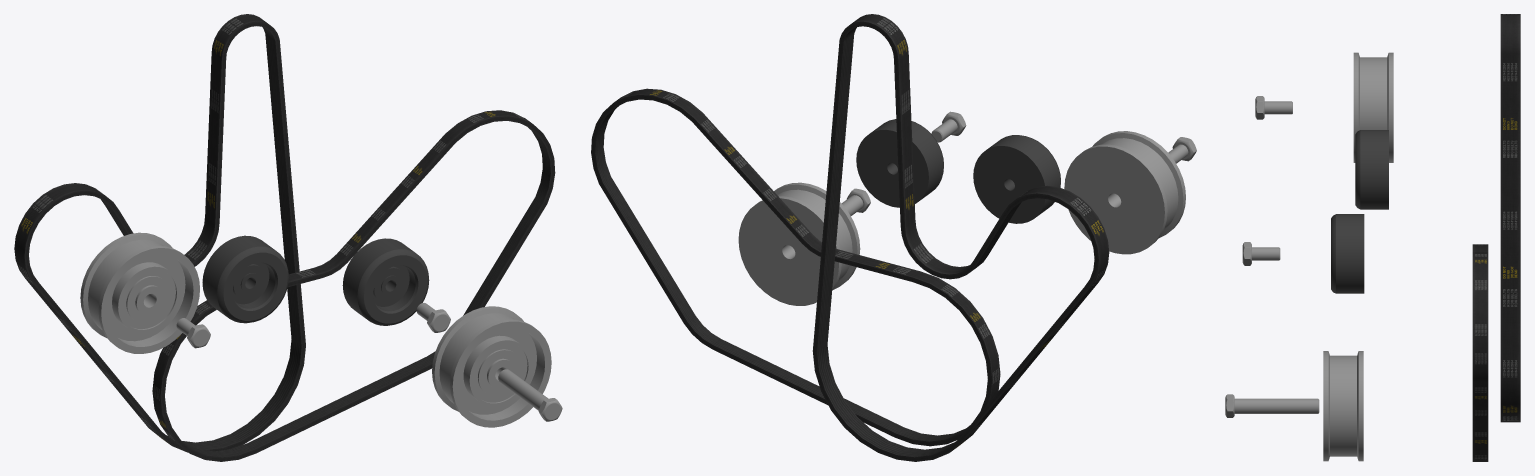
Rendered from tensBelt.glb.
3 views of the same model, side by side, from view 1: azimuth 30°, elevation 25°; view 2: azimuth 150°, elevation 25°; view 3: azimuth 270°, elevation 25° (orthographic). The views are drawn at different scales.
Parts seen in each view (by area): view 1: rot_new_pasek_1(0), rot_old_pasek_1(0), rolka_prowadzaca(1), rolka_prowadzaca(0), rolka_gladka(0), rolka_gladka(1), srubaSilnikDluga_0, srubaSilnik_0 (1), srubaSilnik_0; view 2: rot_new_pasek_1(0), rot_old_pasek_1(0), rolka_prowadzaca(1), rolka_prowadzaca(0), rolka_gladka(0), rolka_gladka(1), srubaSilnik_0; view 3: rot_new_pasek_1(0), rolka_prowadzaca(0), rot_old_pasek_1(0), rolka_prowadzaca(1), rolka_gladka(1), rolka_gladka(0), srubaSilnikDluga_0, srubaSilnik_0, srubaSilnik_0 (1).
Boxes of the visible parts, x1,y1,x2,y2 form: rot_new_pasek_1(0): [14, 14, 305, 452]; rot_old_pasek_1(0): [152, 110, 555, 461]; rolka_prowadzaca(1): [80, 232, 199, 353]; rolka_prowadzaca(0): [432, 306, 551, 427]; rolka_gladka(0): [202, 235, 288, 323]; rolka_gladka(1): [342, 238, 429, 325]; srubaSilnikDluga_0: [498, 369, 562, 421]; srubaSilnik_0 (1): [176, 318, 210, 348]; srubaSilnik_0: [416, 303, 450, 332]; rot_new_pasek_1(0): [812, 14, 1109, 461]; rot_old_pasek_1(0): [591, 88, 1000, 446]; rolka_prowadzaca(1): [1064, 131, 1185, 254]; rolka_prowadzaca(0): [738, 182, 860, 305]; rolka_gladka(0): [973, 135, 1060, 223]; rolka_gladka(1): [856, 119, 943, 207]; srubaSilnik_0: [931, 111, 966, 142]; rot_new_pasek_1(0): [1500, 14, 1520, 422]; rolka_prowadzaca(0): [1323, 351, 1363, 461]; rot_old_pasek_1(0): [1472, 244, 1488, 461]; rolka_prowadzaca(1): [1353, 52, 1393, 162]; rolka_gladka(1): [1331, 214, 1364, 293]; rolka_gladka(0): [1355, 130, 1388, 209]; srubaSilnikDluga_0: [1225, 394, 1319, 417]; srubaSilnik_0: [1242, 242, 1280, 265]; srubaSilnik_0 (1): [1255, 96, 1292, 119].
Bounding box in the file's own units: 0.0078 × 0.00611 × 0.00399.
3 materials, 1 textured.
